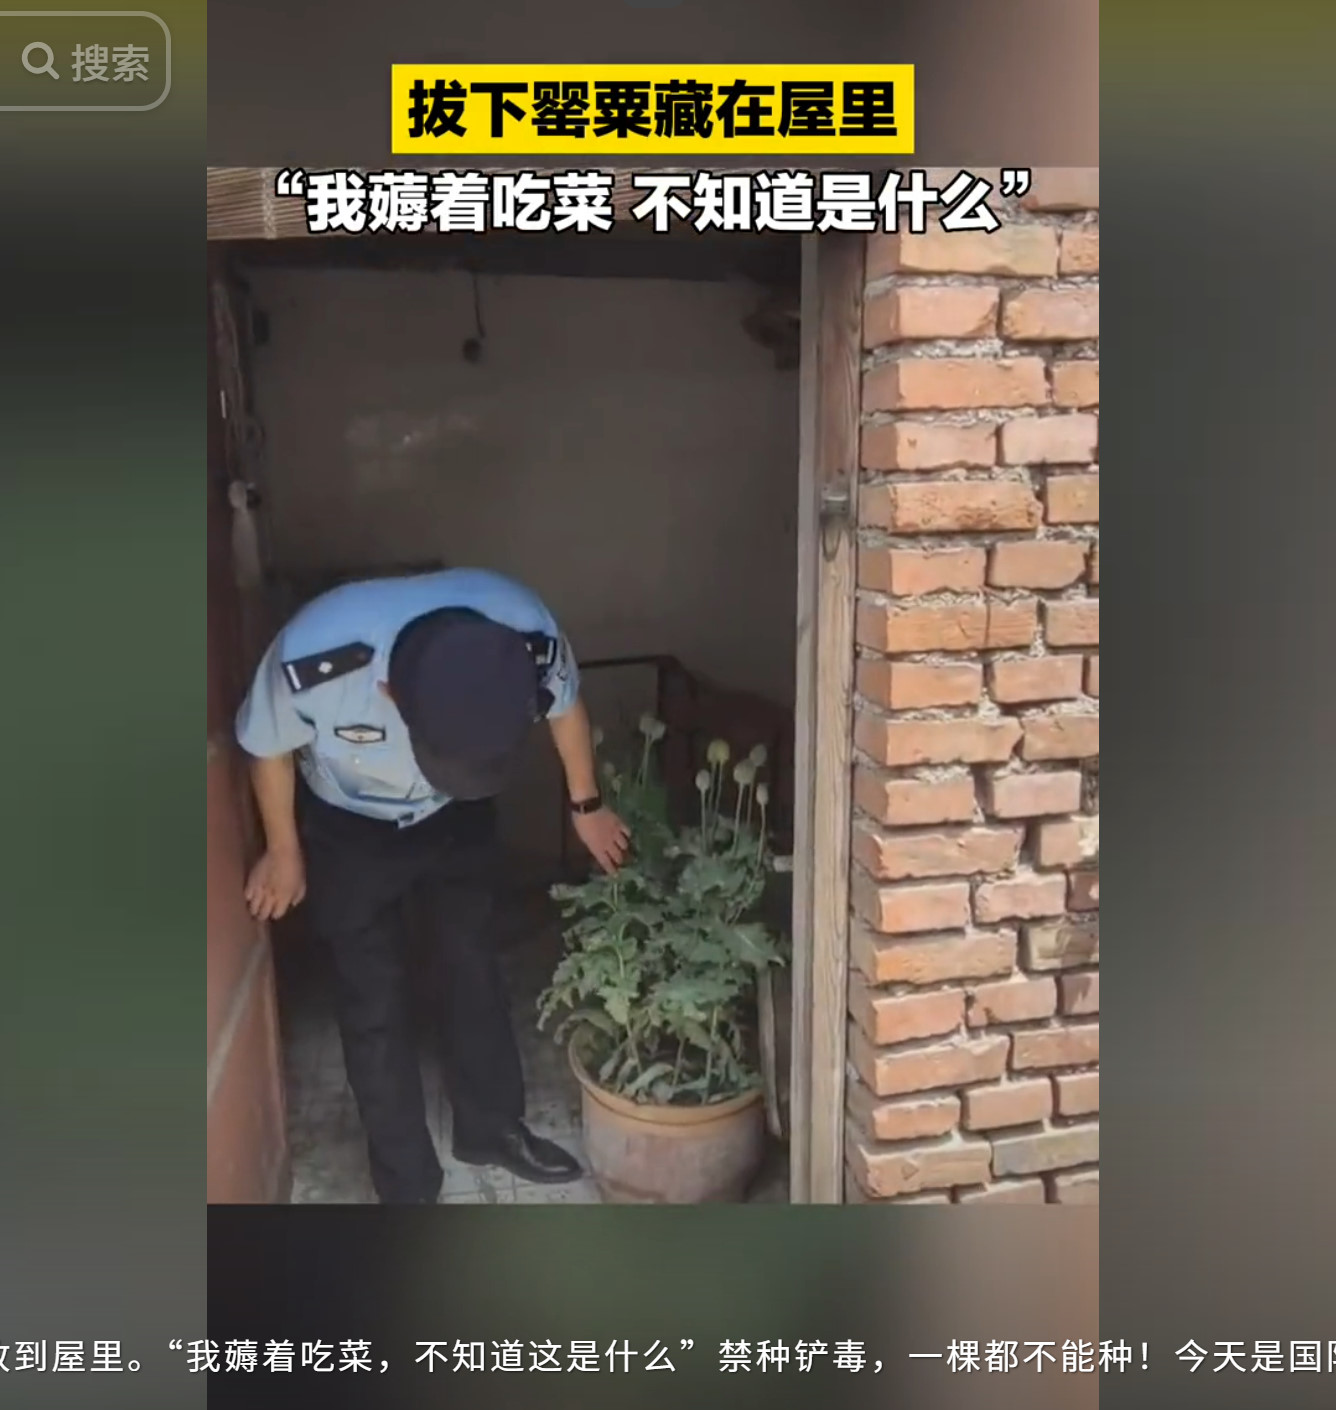Poppy: (554, 693, 792, 1100)
